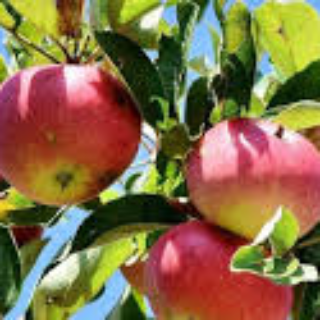tao: (3, 60, 144, 208), (180, 110, 318, 246)
